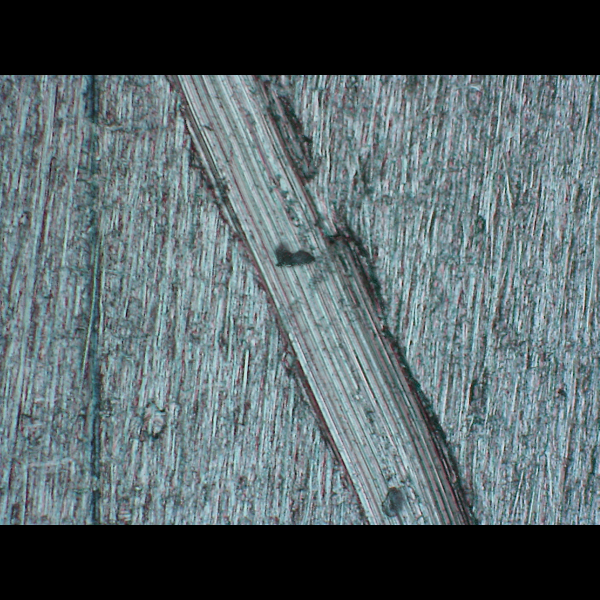d: (152, 75, 489, 524)
